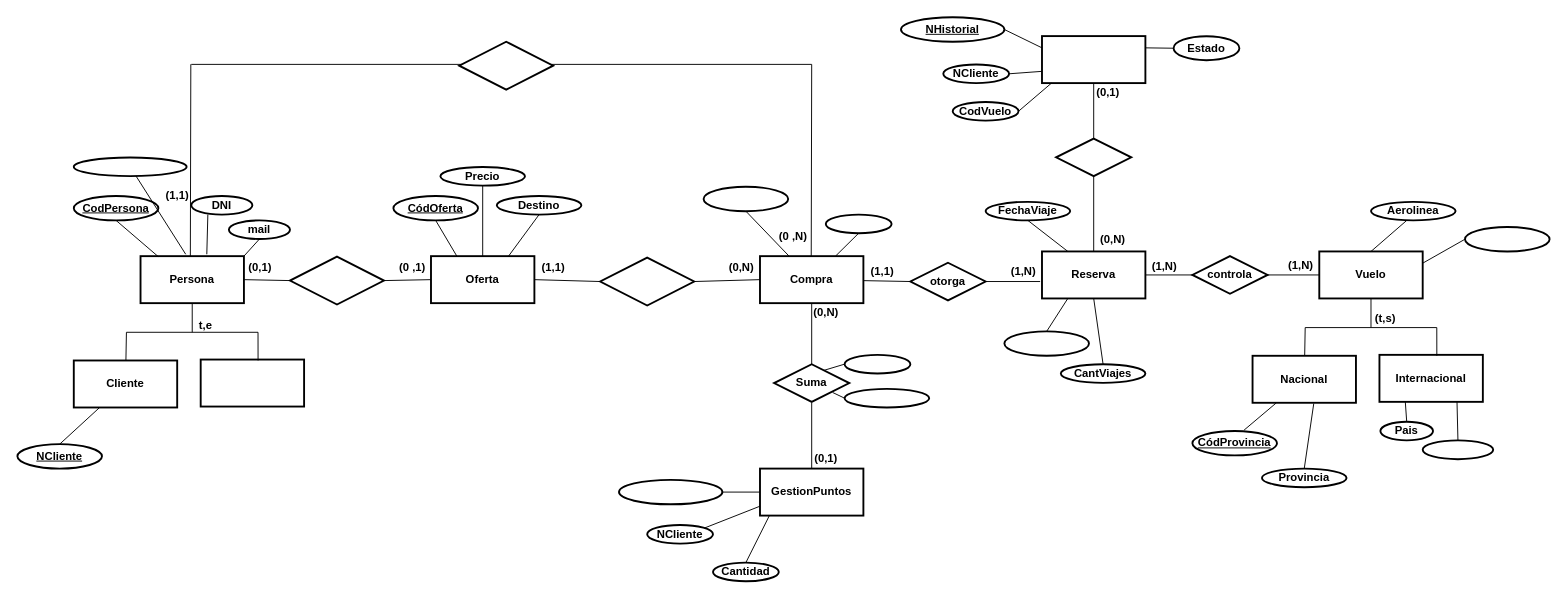
The diagram is 1566 pixels wide and 598 high, and some of its shapes have lost their labels. The centre of each missing label's shape, as x and y in pixels:
CódCompra: point (745, 198)
CódPais: point (1457, 449)
CódReserva: point (1046, 343)
CódVuelo: point (1507, 239)
desencadena: point (647, 281)
HistorialCliente: point (1093, 59)
Invitado: point (252, 382)
modifica: point (1093, 157)
NGestionPuntos: point (670, 491)
NombreApellido: point (129, 166)
observa: point (336, 280)
Puntos: point (877, 363)
realiza: point (506, 65)
Recibo: point (858, 223)
VtoPuntos: point (886, 397)
